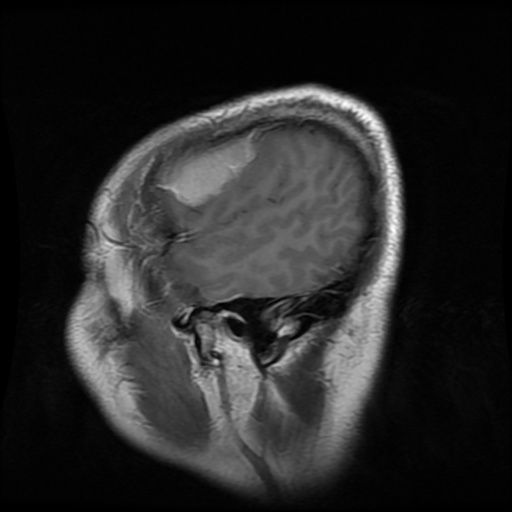meningioma: (160, 135, 253, 204)
